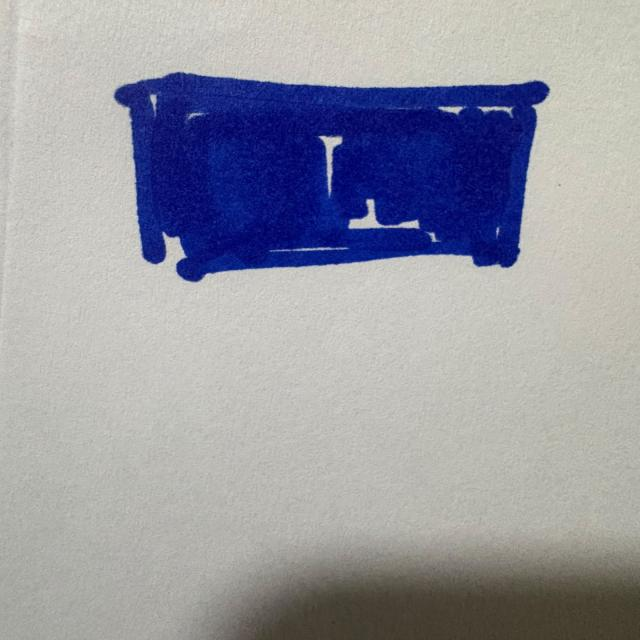Rectangle: (106, 68, 554, 286)
